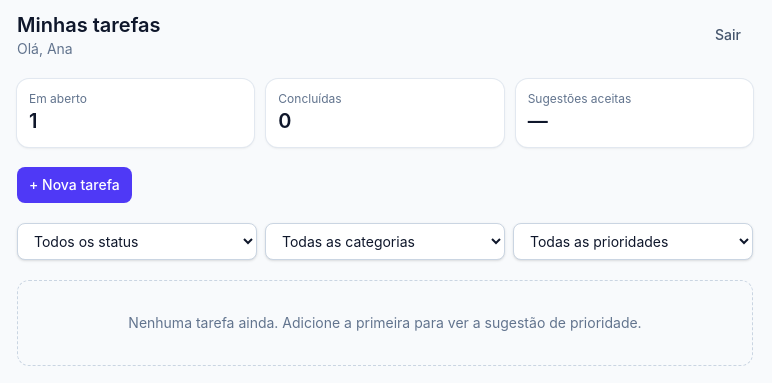
Test: App › filtra pela prioridade
The width and height of the screenshot is (772, 383).
Select "Alta" in the dropdown named "Filtrar por prioridade": x=633, y=242 left=513, top=223, right=753, bottom=260
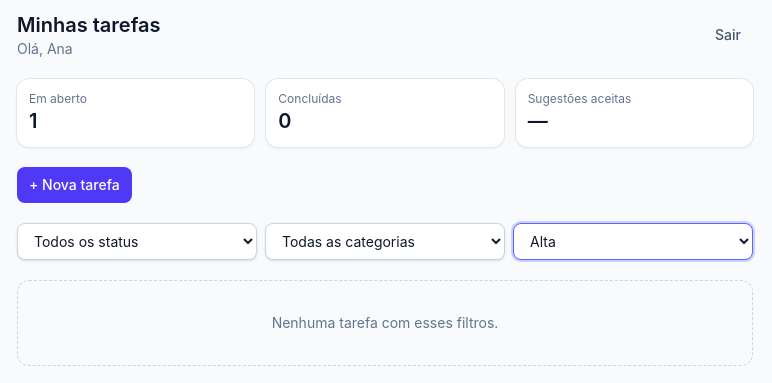
Result: the text "Nenhuma tarefa com esses filtros." is shown at left=17, top=280, right=753, bottom=366
